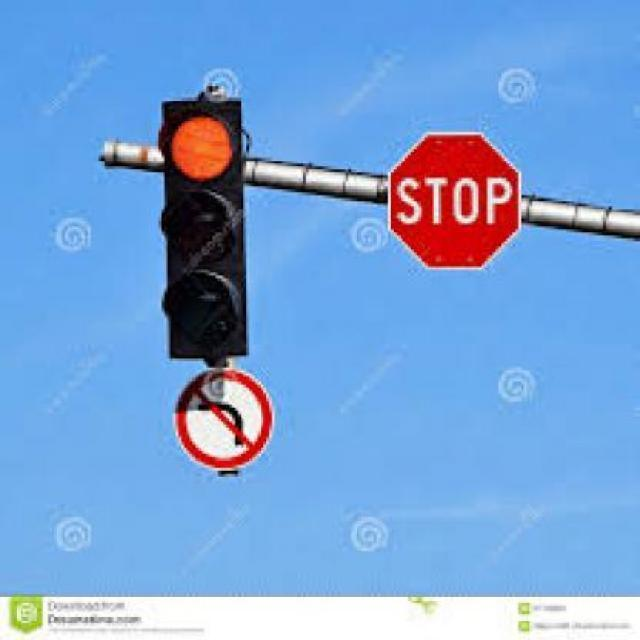red: (180, 119, 236, 179)
stop: (388, 129, 522, 279)
